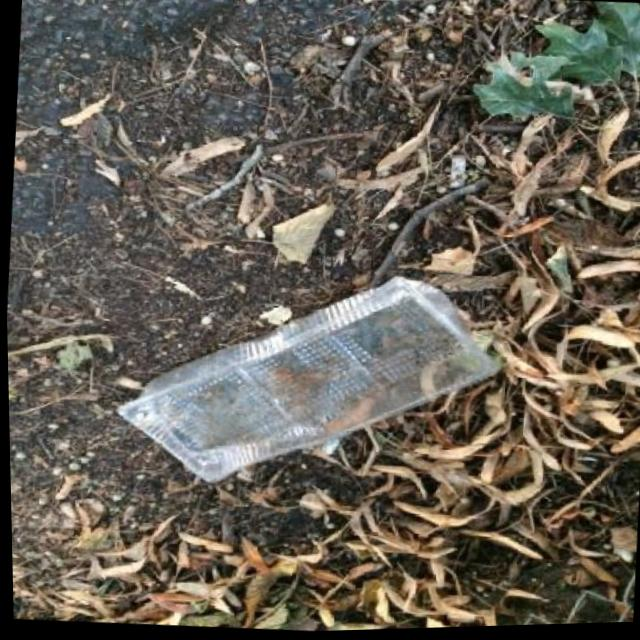plastic: (111, 253, 511, 504)
